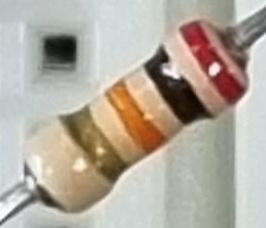Black: (143, 40, 214, 128)
Orange: (103, 76, 169, 159)
Red: (176, 18, 248, 109)
Side-Gold: (57, 104, 132, 195)
